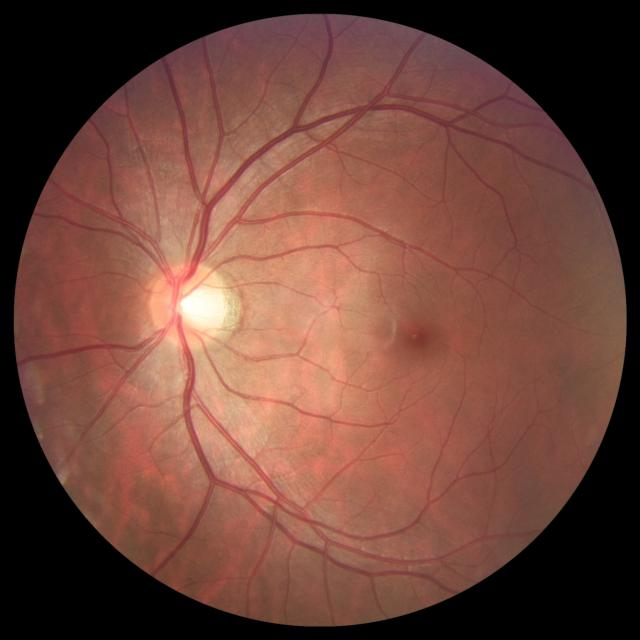OC: (177, 286, 224, 330)
OD: (147, 262, 225, 348)
